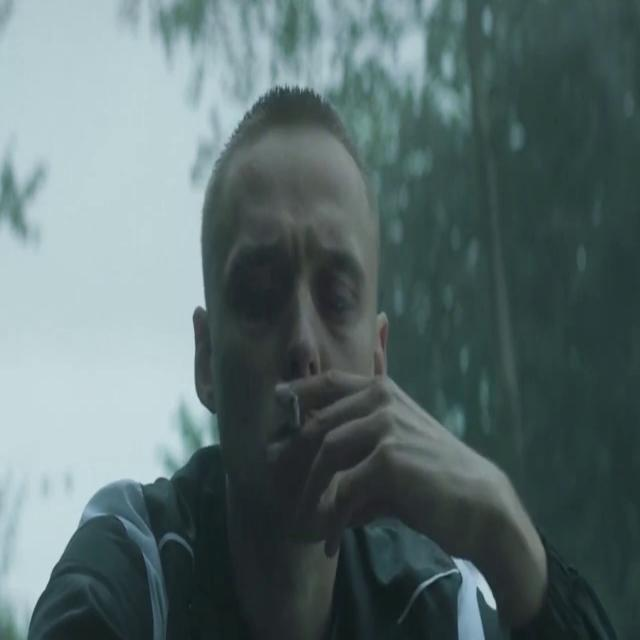Smooking: (282, 376, 309, 434)
